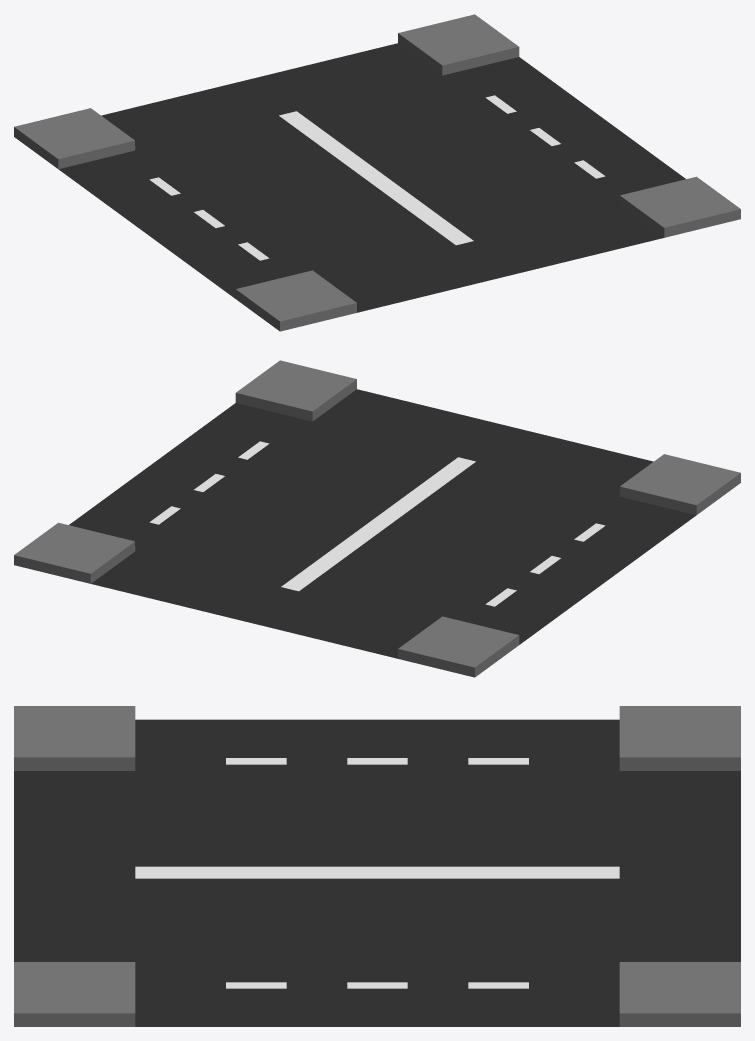
Rendered from RoadIntersection.fbx.
3 views of the same model, one above another, from view 1: azimuth 30°, elevation 25°; view 2: azimuth 150°, elevation 25°; view 3: azimuth 270°, elevation 25° (orthographic). The views are drawn at different scales.
Visible parts, largest first — view 1: RoadIntersection; view 2: RoadIntersection; view 3: RoadIntersection.
Part boxes in pixels (box(x1,y1,x2,y2)): RoadIntersection: box(14, 14, 740, 331); RoadIntersection: box(14, 360, 740, 677); RoadIntersection: box(14, 706, 740, 1026).
Size of the model in its own units: 24 by 0.5 by 24.
Materials: 1 (1 with a texture image).
